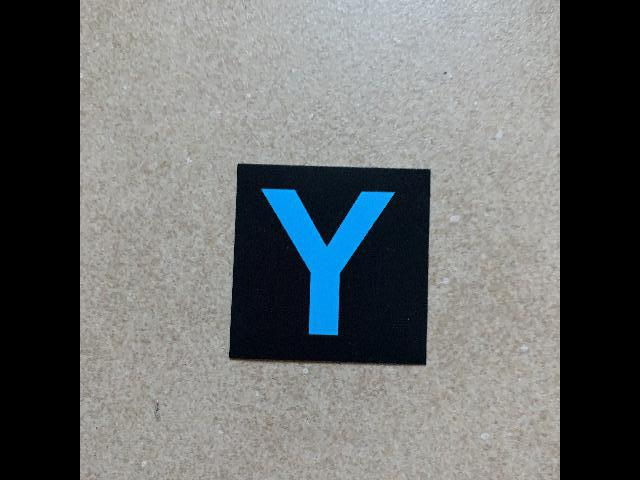alphabet_y: (227, 162, 431, 367)
